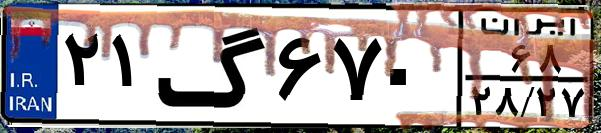0: (385, 28, 445, 110)
1: (110, 28, 156, 98)
2: (57, 26, 110, 100), (470, 70, 495, 125), (535, 70, 560, 125)
6: (270, 28, 330, 110), (508, 27, 537, 80)
7: (330, 28, 385, 110), (560, 70, 590, 125)
8: (537, 27, 568, 80), (495, 70, 520, 125)
گ: (156, 12, 270, 120)
